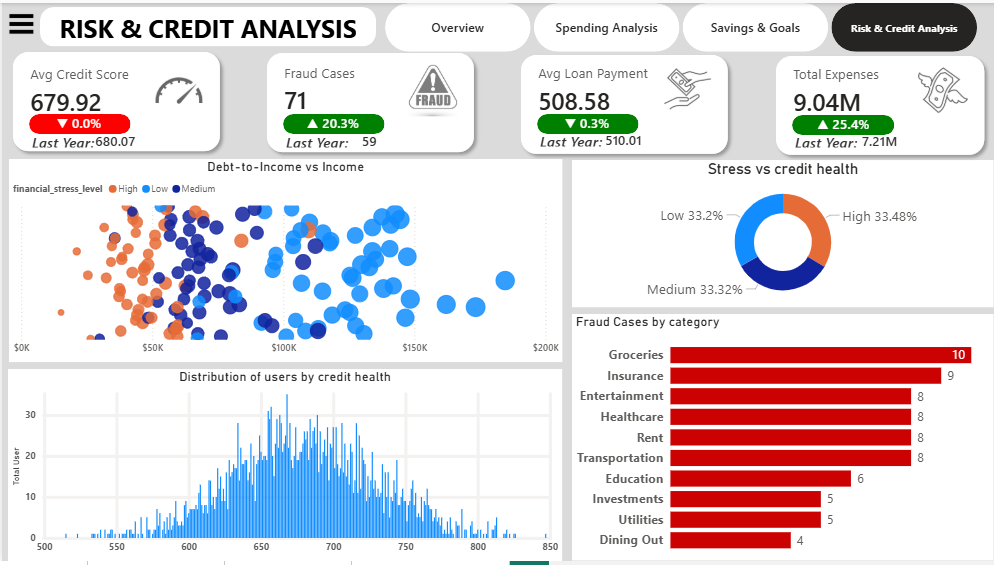

The dashboard page shown, as its layout file describes it:
{"tool":"powerbi","page":{"name":"Risk & Credit Analysis","canvas":[1280,720],"ordinal":3},"visuals":[{"type":"group","id":"g1","title":"RISK ANALSIS PAGE","box":[0,0,1280,720],"z":0},{"type":"shape","box":[5.3,53.9,284.9,146],"z":0,"group":"g10"},{"type":"shape","box":[333,55.2,284.9,146],"z":0,"group":"g11"},{"type":"shape","box":[660.8,57.9,284.7,145.4],"z":0,"group":"g12"},{"type":"shape","box":[989.7,59.3,286.8,145.4],"z":0,"group":"g13"},{"type":"shape","title":"YOY BG","box":[690.7,142.9,131.2,25.9],"z":0,"group":"g6"},{"type":"shape","title":"YOY BG","box":[362.9,143,131.2,25.9],"z":0,"group":"g7"},{"type":"shape","title":"YOY BG","box":[35.2,143.1,131.2,25.9],"z":0,"group":"g8"},{"type":"shape","title":"YOY BG","box":[1019.9,144.3,132.1,25.9],"z":0,"group":"g9"},{"type":"shape","title":"Last Year:","box":[694.1,165,88.7,19.8],"z":0,"group":"g2"},{"type":"shape","title":"Last Year:","box":[366.3,165.1,88.7,19.8],"z":0,"group":"g3"},{"type":"shape","title":"Last Year:","box":[38.6,165.2,88.7,19.8],"z":0,"group":"g4"},{"type":"shape","title":"Last Year:","box":[1023.3,166.4,89.3,19.8],"z":0,"group":"g5"},{"type":"cardVisual","fields":{"Data":["Meaasure.Avg Loan Payment"]},"box":[674.5,63.4,259.2,97.2],"z":1000,"group":"g12"},{"type":"cardVisual","fields":{"Data":["Meaasure.Fraud Cases"]},"box":[346.7,63.5,259.2,97.2],"z":1000,"group":"g11"},{"type":"cardVisual","fields":{"Data":["Meaasure.Avg Credit Score"]},"box":[19,63.6,259.2,97.2],"z":1000,"group":"g10"},{"type":"cardVisual","fields":{"Data":["Meaasure.Total Expenses"]},"box":[1003.5,64.8,261.1,97.2],"z":1000,"group":"g13"},{"type":"cardVisual","title":"YOY %","fields":{"Data":["Meaasure.YOY avg loan  %"]},"box":[711.9,135,88.9,33.8],"z":1000,"group":"g6"},{"type":"cardVisual","title":"YOY %","fields":{"Data":["Meaasure.YOY Fraud %"]},"box":[384.1,135.1,88.9,33.8],"z":1000,"group":"g7"},{"type":"cardVisual","title":"YOY %","fields":{"Data":["Meaasure.YOY avg credit score %"]},"box":[56.4,135.2,88.9,33.8],"z":1000,"group":"g8"},{"type":"cardVisual","title":"YOY %","fields":{"Data":["Meaasure.YOY for expense %"]},"box":[1041.2,136.4,89.5,33.8],"z":1000,"group":"g9"},{"type":"cardVisual","title":"LY ","fields":{"Data":["Meaasure.Last year loan payment"]},"box":[761.5,155.1,81.6,36.7],"z":1000,"group":"g2"},{"type":"cardVisual","title":"LY ","fields":{"Data":["Meaasure.Last year fraud"]},"box":[433.7,155.2,81.6,36.7],"z":1000,"group":"g3"},{"type":"cardVisual","title":"LY ","fields":{"Data":["Meaasure.Last year avg credit score"]},"box":[106,155.3,81.6,36.7],"z":1000,"group":"g4"},{"type":"cardVisual","title":"LY ","fields":{"Data":["Meaasure.Last year Expense"]},"box":[1091.2,156.5,82.2,36.7],"z":1000,"group":"g5"},{"type":"group","id":"g2","title":"Group 1","box":[694.1,155.1,149,36.7],"z":2000,"group":"g12"},{"type":"group","id":"g3","title":"Group 1","box":[366.3,155.2,149,36.7],"z":2000,"group":"g11"},{"type":"group","id":"g4","title":"Group 1","box":[38.6,155.3,149,36.7],"z":2000,"group":"g10"},{"type":"group","id":"g5","title":"Group 1","box":[1023.3,156.5,150,36.7],"z":2000,"group":"g13"},{"type":"donutChart","title":"Stress vs credit health","fields":{"Category":["PERSONAL FINANCE TRACKER - Shee.financial_stress_level"],"Y":["Meaasure.Avg Credit Score"]},"box":[735.6,202.7,544.3,189.9],"z":2000,"group":"g1"},{"type":"group","id":"g6","title":"Group 2","box":[690.7,135,131.2,33.8],"z":3000,"group":"g12"},{"type":"group","id":"g7","title":"Group 2","box":[362.9,135.1,131.2,33.8],"z":3000,"group":"g11"},{"type":"group","id":"g8","title":"Group 2","box":[35.2,135.2,131.2,33.8],"z":3000,"group":"g10"},{"type":"group","id":"g9","title":"Group 2","box":[1019.9,136.4,132.1,33.8],"z":3000,"group":"g13"},{"type":"scatterChart","title":"Debt-to-Income vs Income","fields":{"X":["Meaasure.Total Income"],"Y":["PERSONAL FINANCE TRACKER - Shee.debt_to_income_ratio"],"Size":["Meaasure.Loan Payment"],"Series":["PERSONAL FINANCE TRACKER - Shee.financial_stress_level"]},"box":[8.5,201.3,714.3,262.2],"z":3000,"group":"g1"},{"type":"lineStackedColumnComboChart","title":"Distribution of users by credit health","fields":{"Category":["PERSONAL FINANCE TRACKER - Shee.credit_score"],"Y":["Meaasure.Total User"]},"box":[8,472,715.2,248],"z":5000,"group":"g1"},{"type":"barChart","fields":{"Y":["Meaasure.Fraud Cases"],"Category":["PERSONAL FINANCE TRACKER - Shee.category"]},"box":[736,401.6,544,318.4],"z":6000,"group":"g1"},{"type":"pageNavigator","box":[493.9,0,767.5,63.4],"z":7000,"group":"g1"},{"type":"group","id":"g10","title":"avg cre score","box":[5.3,53.9,284.9,146],"z":8000,"group":"g1"},{"type":"group","id":"g11","title":"fraud","box":[333,55.2,284.9,146],"z":9000,"group":"g1"},{"type":"group","id":"g12","title":"avg loan payment","box":[660.8,57.9,286,147],"z":10000,"group":"g1"},{"type":"group","id":"g13","title":"total Expenses","box":[989.7,59.3,286,147],"z":11000,"group":"g1"},{"type":"shape","box":[49.6,5.7,433.7,51],"z":12000,"group":"g1"},{"type":"image","title":"MENU","box":[0,0,49.6,53.9],"z":13000,"group":"g1"}]}

Visuals, with their boxes in screenshot pixels (x1, y1, x2, y2), scaled from the page's 1280x720 canvas onto the 994x565 screenshot:
"RISK ANALSIS PAGE" group: [0,0,993,564]
shape: [4,42,225,157]
shape: [259,43,480,158]
shape: [513,45,734,160]
shape: [769,47,991,161]
"YOY BG" shape: [536,112,638,132]
"YOY BG" shape: [282,112,384,133]
"YOY BG" shape: [27,112,129,133]
"YOY BG" shape: [792,113,895,134]
"Last Year:" shape: [539,129,608,145]
"Last Year:" shape: [284,130,353,145]
"Last Year:" shape: [30,130,99,145]
"Last Year:" shape: [795,131,864,146]
cardVisual - Meaasure.Avg Loan Payment: [524,50,725,126]
cardVisual - Meaasure.Fraud Cases: [269,50,471,126]
cardVisual - Meaasure.Avg Credit Score: [15,50,216,126]
cardVisual - Meaasure.Total Expenses: [779,51,982,127]
"YOY %" cardVisual: [553,106,622,132]
"YOY %" cardVisual: [298,106,367,133]
"YOY %" cardVisual: [44,106,113,133]
"YOY %" cardVisual: [809,107,878,134]
"LY " cardVisual: [591,122,655,151]
"LY " cardVisual: [337,122,400,151]
"LY " cardVisual: [82,122,146,151]
"LY " cardVisual: [847,123,911,152]
"Group 1" group: [539,122,655,151]
"Group 1" group: [284,122,400,151]
"Group 1" group: [30,122,146,151]
"Group 1" group: [795,123,911,152]
"Stress vs credit health" donutChart: [571,159,993,308]
"Group 2" group: [536,106,638,132]
"Group 2" group: [282,106,384,133]
"Group 2" group: [27,106,129,133]
"Group 2" group: [792,107,895,134]
"Debt-to-Income vs Income" scatterChart: [7,158,561,364]
"Distribution of users by credit health" lineStackedColumnComboChart: [6,370,562,564]
barChart - Meaasure.Fraud Cases x PERSONAL FINANCE TRACKER - Shee.category: [572,315,993,564]
pageNavigator: [384,0,980,50]
"avg cre score" group: [4,42,225,157]
"fraud" group: [259,43,480,158]
"avg loan payment" group: [513,45,735,161]
"total Expenses" group: [769,47,991,162]
shape: [39,4,375,44]
"MENU" image: [0,0,39,42]
